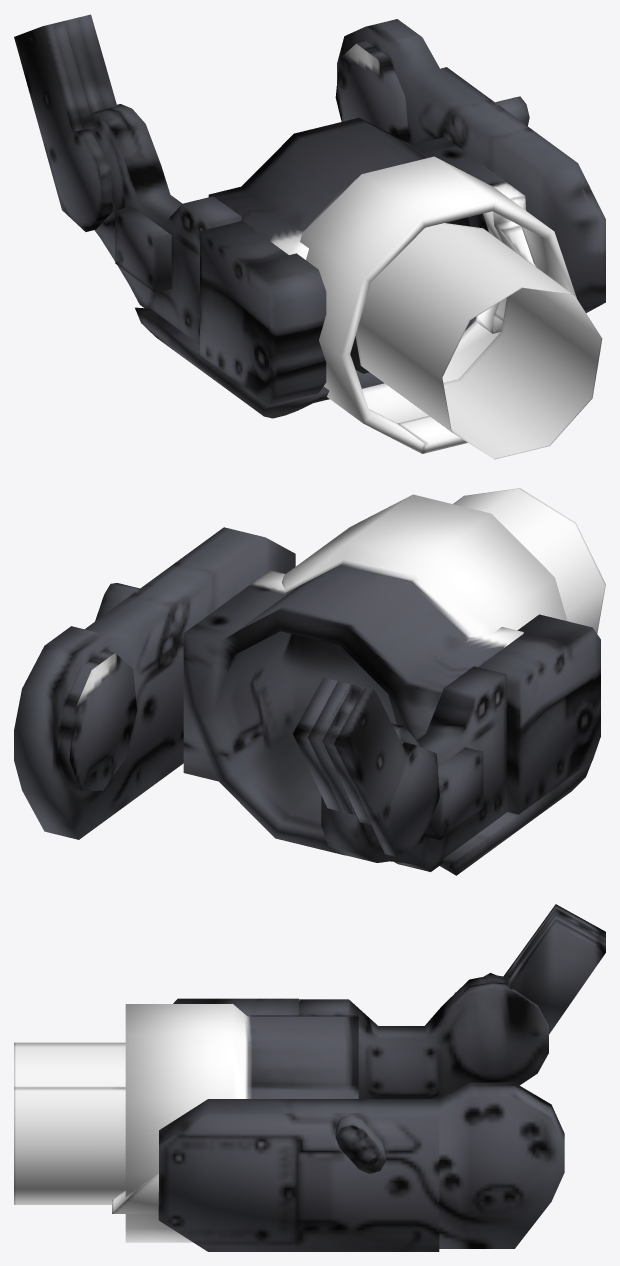
The model's file is r_scap.dae.
3 renders of one model, top to bottom at view 1: azimuth 30°, elevation 25°; view 2: azimuth 150°, elevation 25°; view 3: azimuth 270°, elevation 25°, orthographic. The views are drawn at different scales.
Parts seen in each view (by area): view 1: r_scap; view 2: r_scap; view 3: r_scap.
Part boxes in pixels (left/top/right/bottom): r_scap: left=14, top=14, right=605, bottom=459; r_scap: left=14, top=488, right=605, bottom=875; r_scap: left=14, top=904, right=605, bottom=1251.
Bounding box in the file's own units: 0.1717 × 0.2756 × 0.1279.
1 material, 1 textured.
